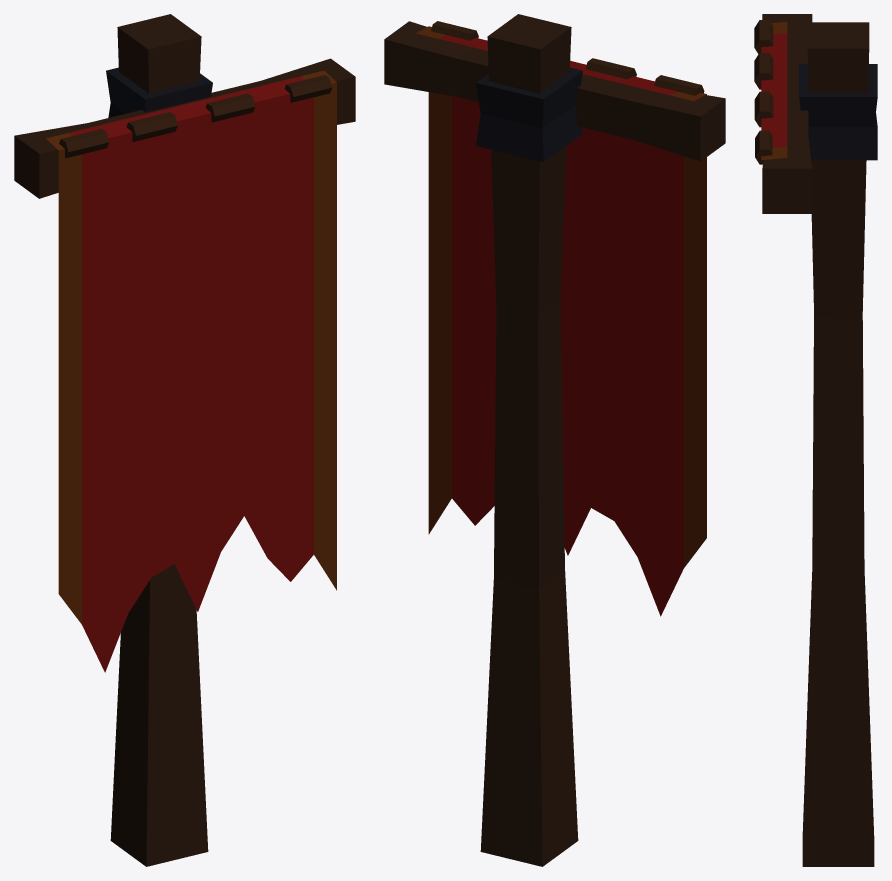
File: banner.obj
The picture shows the model from 3 angles, left to right: view 1: azimuth 30°, elevation 25°; view 2: azimuth 150°, elevation 25°; view 3: azimuth 270°, elevation 25°; orthographic projection.
Parts seen in each view (by area): view 1: Plane; view 2: Plane; view 3: Plane.
Part boxes in pixels (bbox=[...]): Plane: bbox=[14, 14, 355, 866]; Plane: bbox=[384, 14, 725, 866]; Plane: bbox=[754, 14, 877, 866].
Size of the model in its own units: 1.89 by 4.65 by 0.637.
